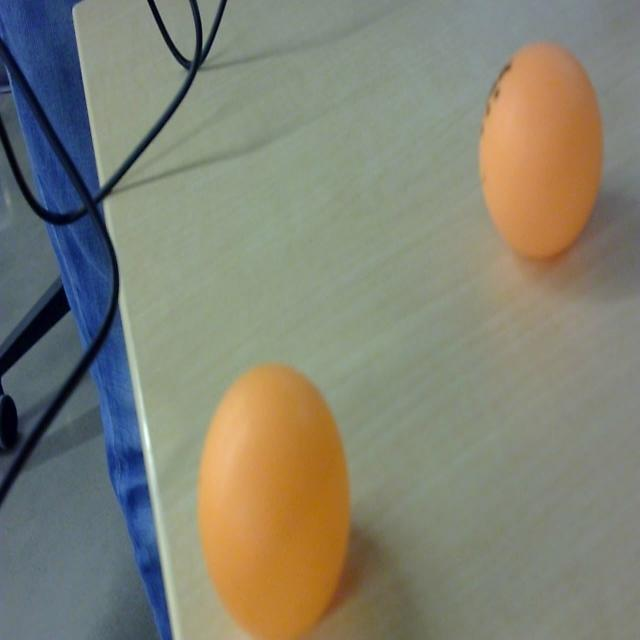ball: (194, 364, 353, 640), (477, 40, 604, 264)
